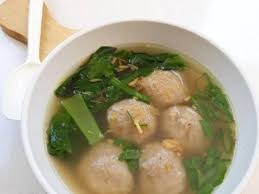bakso: (39, 56, 237, 194)
